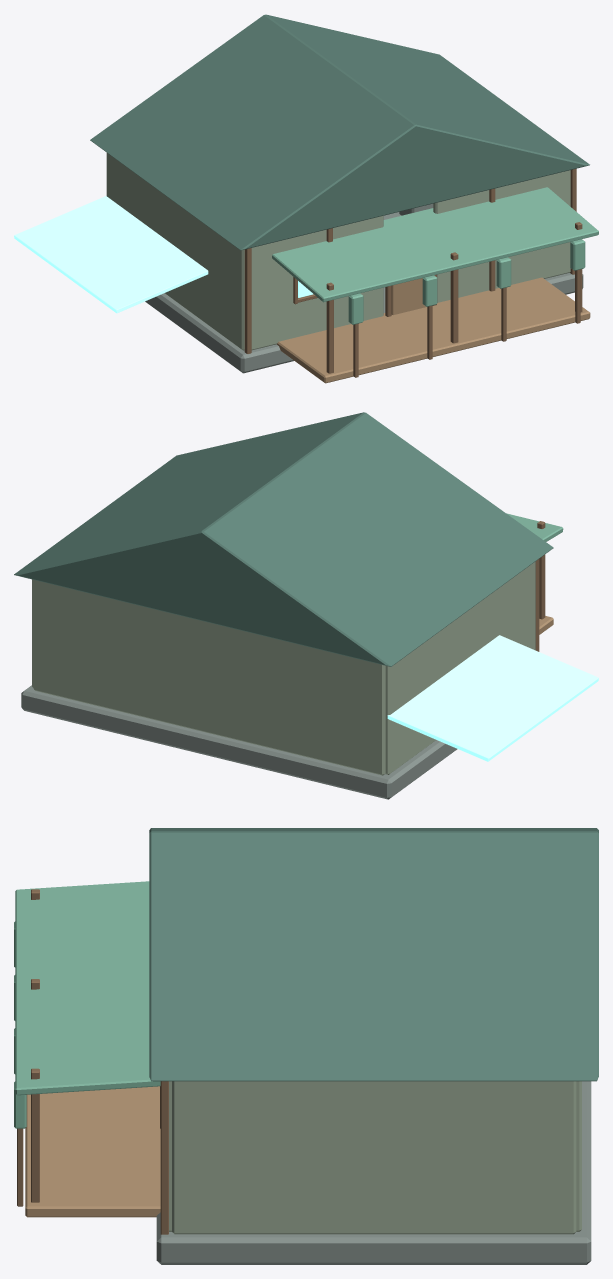
File: LumenHealerLodge.glb
3 views of the same model, one above another, from view 1: azimuth 30°, elevation 25°; view 2: azimuth 150°, elevation 25°; view 3: azimuth 270°, elevation 25° (orthographic). The views are drawn at different scales.
Parts seen in each view (by area): view 1: LumenHealerLodge; view 2: LumenHealerLodge; view 3: LumenHealerLodge.
Part boxes in pixels (bbox=[...]): LumenHealerLodge: bbox=[14, 14, 598, 383]; LumenHealerLodge: bbox=[14, 412, 598, 799]; LumenHealerLodge: bbox=[14, 828, 598, 1264].
Bounding box in the file's own units: 29.29 × 13.57 × 23.15.
